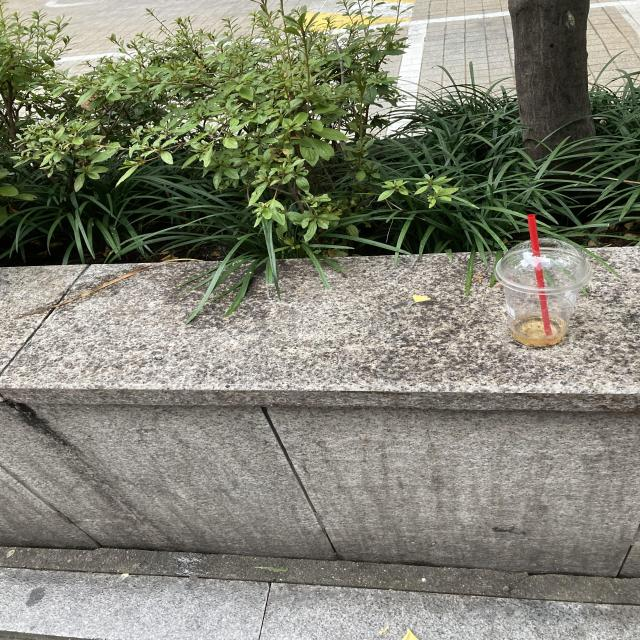litter: (490, 239, 583, 348), (524, 217, 548, 328)
